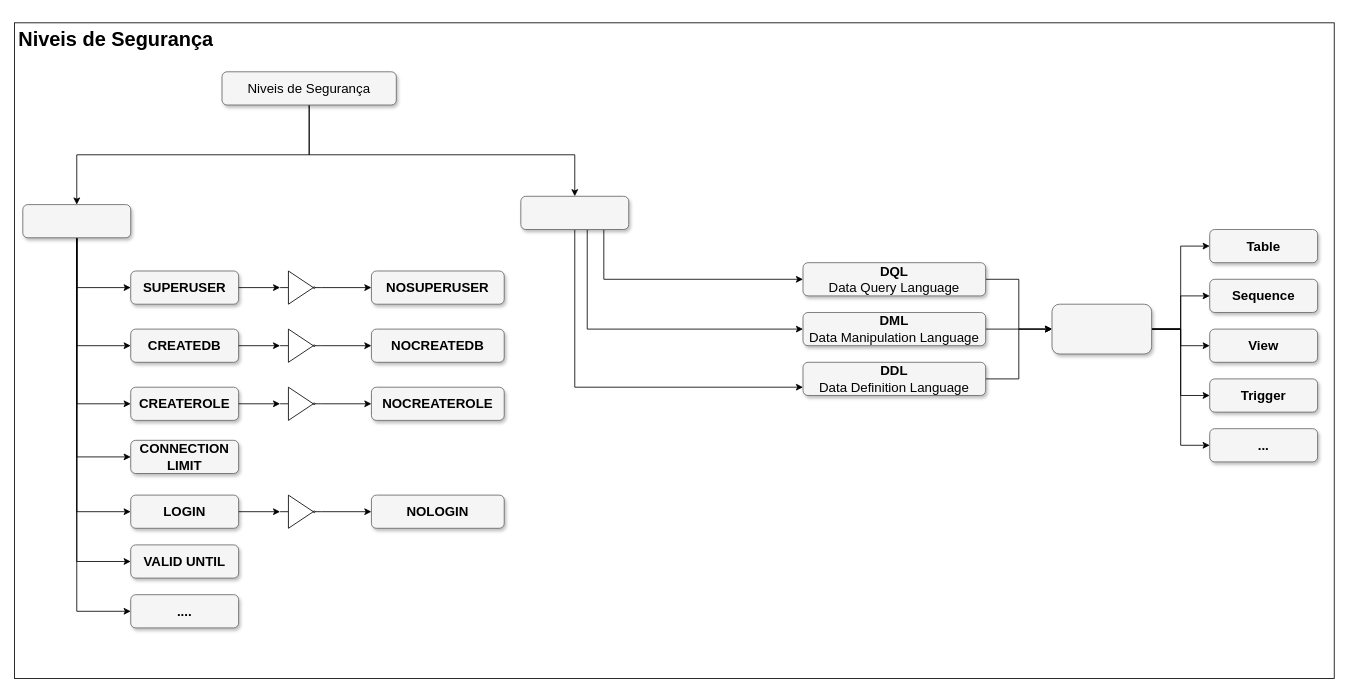
Some shapes in this 1349 by 693 pixel diagram are drawn without their labels. Here are the shapes that lost their labels. From the top down, the centre of each, then its label:
At point 77,222: "Usuario/Papel".
At point 575,213: "Database Objects".
At point 1102,330: "recurso".
